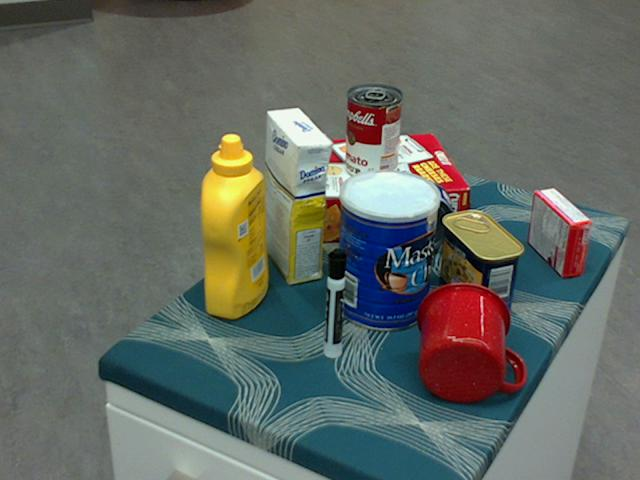cracker_box: (277, 132, 469, 247)
gelatin_box: (528, 188, 592, 277)
large_marker: (323, 248, 345, 359)
master_chef_can: (337, 169, 440, 331)
mug: (417, 280, 523, 402)
mustard_bottle: (200, 134, 269, 320)
potted_meat_can: (439, 210, 525, 319)
sugar_box: (263, 109, 330, 286)
tomato_soup_can: (346, 84, 402, 182)
tuna_fish_can: (381, 178, 454, 251)
